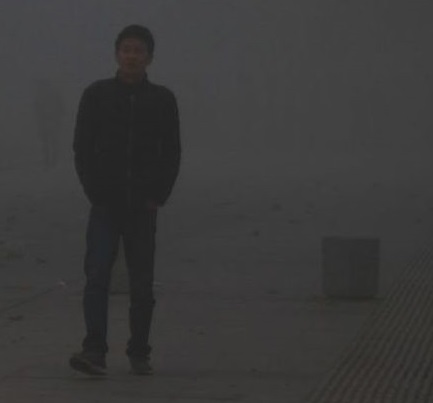person: (68, 20, 182, 379)
